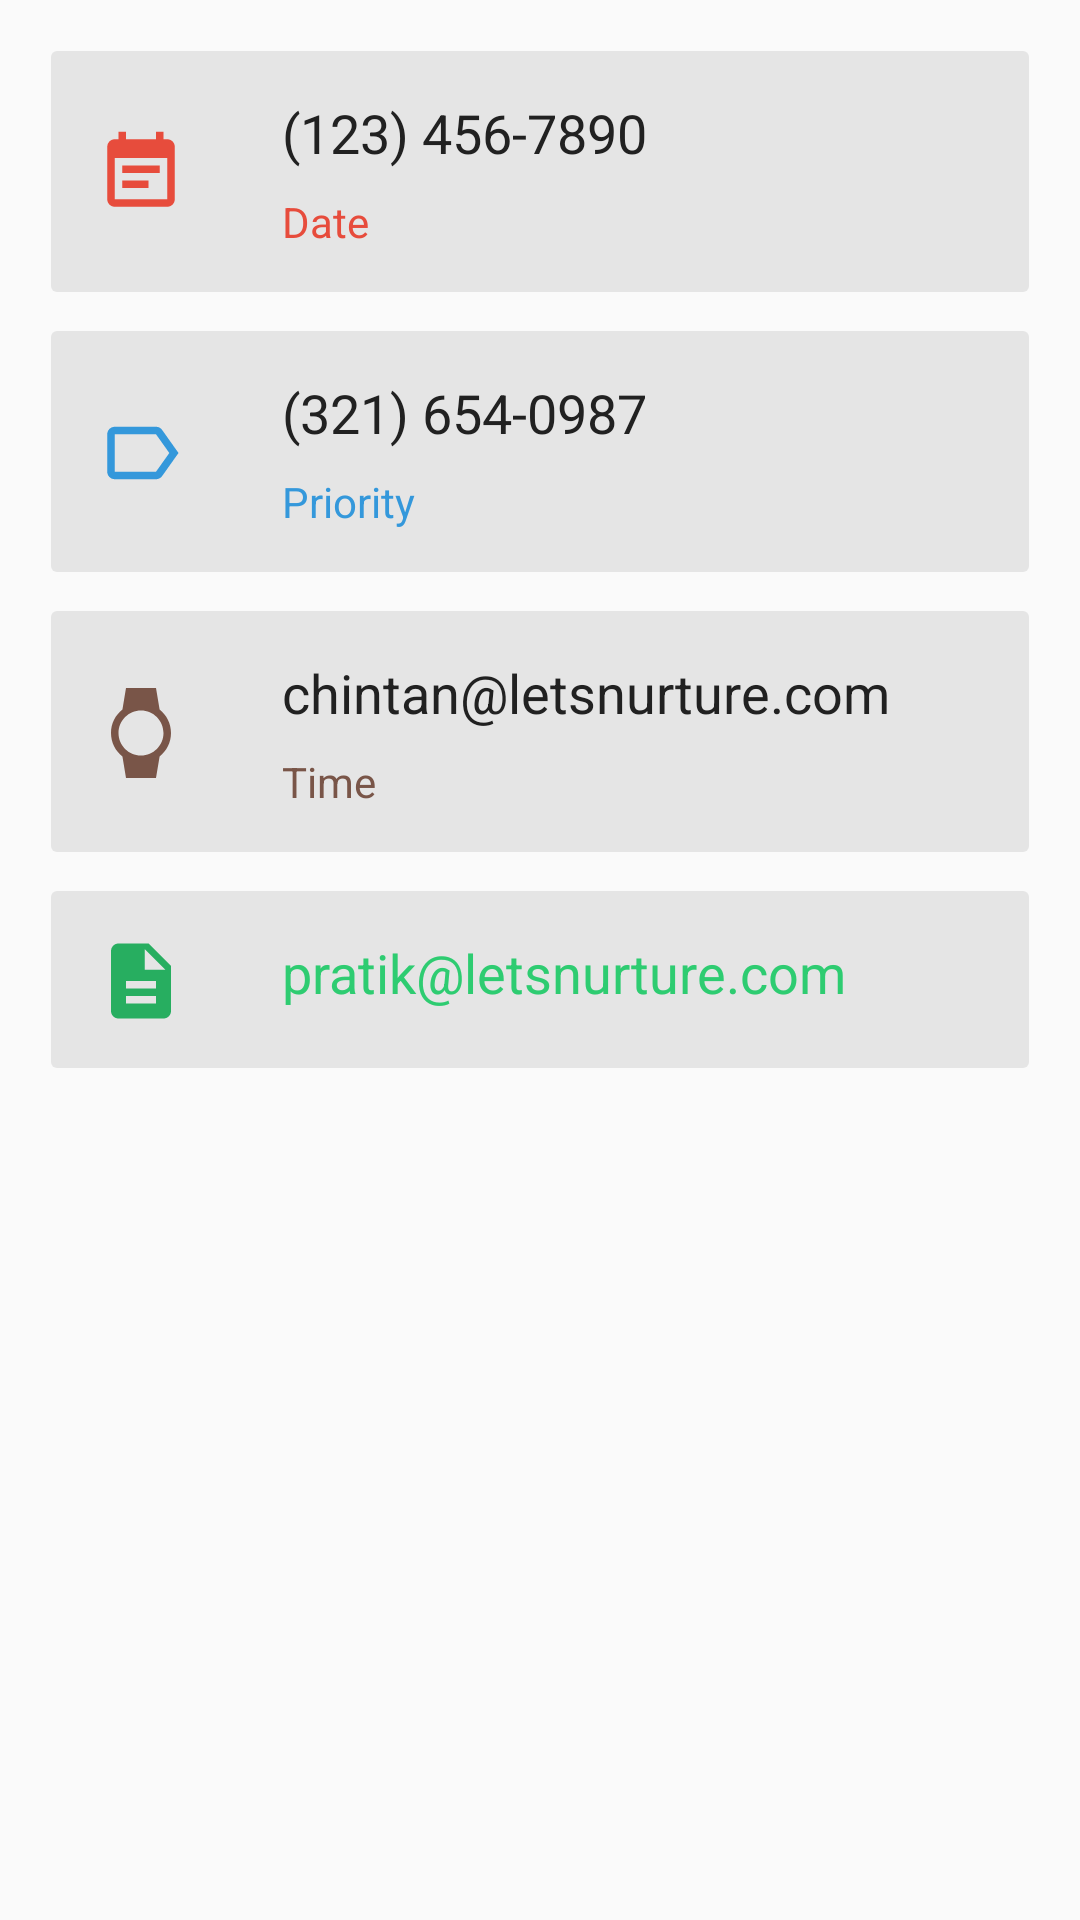

Icons on this 1080 × 1920 Android screen, each with its box as {"x1": x1, "y1": y1, "x2": x2, "y2": y2}:
description: {"x1": 111, "y1": 943, "x2": 171, "y2": 1019}
event: {"x1": 107, "y1": 131, "x2": 175, "y2": 207}
label: {"x1": 107, "y1": 426, "x2": 179, "y2": 480}
watch: {"x1": 111, "y1": 688, "x2": 171, "y2": 778}
